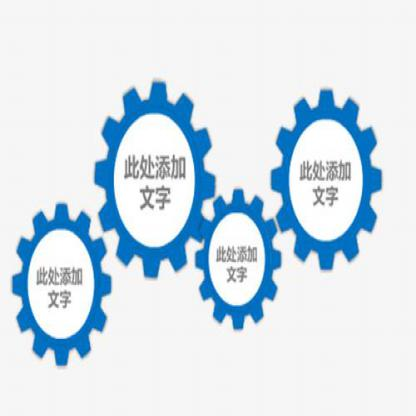FOD: (92, 77, 216, 286), (268, 84, 386, 275), (11, 200, 113, 371), (195, 182, 284, 334)
